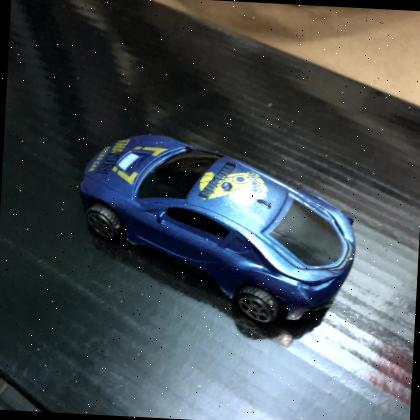Car: (79, 134, 356, 332)
